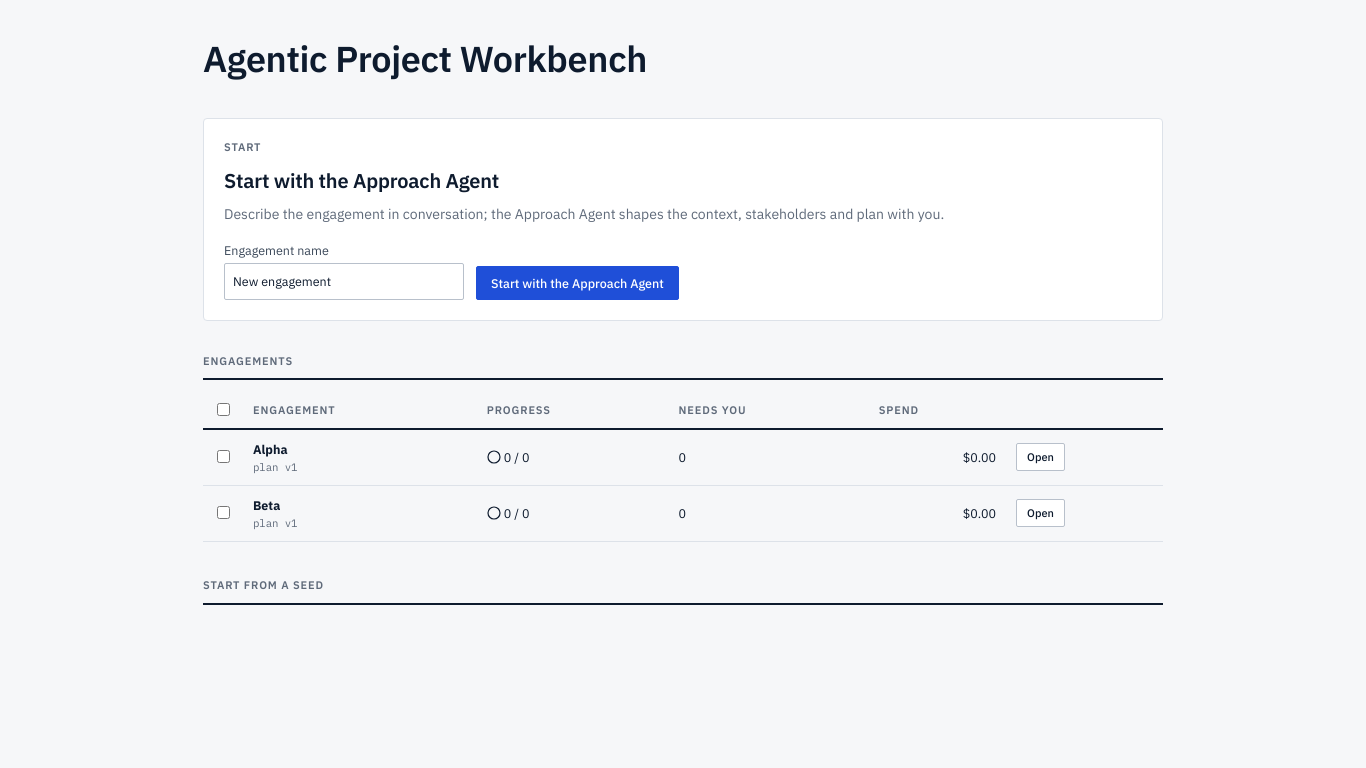
it: HomePage engagement delete › deletes the selected engagements after confirmation and reports a refusal
Expected: the number of rows with test id "engagement-card" is 2, [203, 429, 1163, 485]; [203, 485, 1163, 541]
Click the checkbox with test id "select-all-engagements".
click(224, 409)  # box [217, 402, 230, 416]
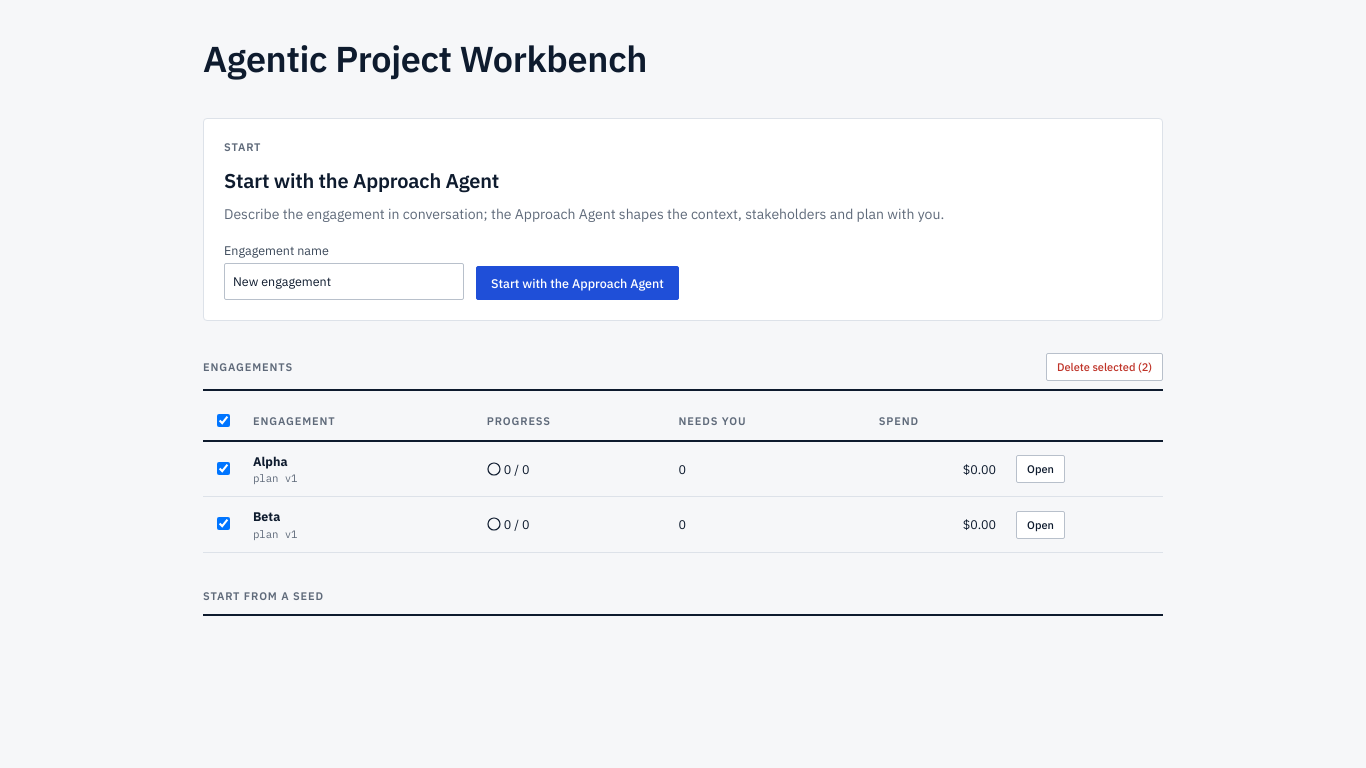
Click the button with test id "delete-engagements-button".
click(1104, 367)  # box [1046, 353, 1163, 381]
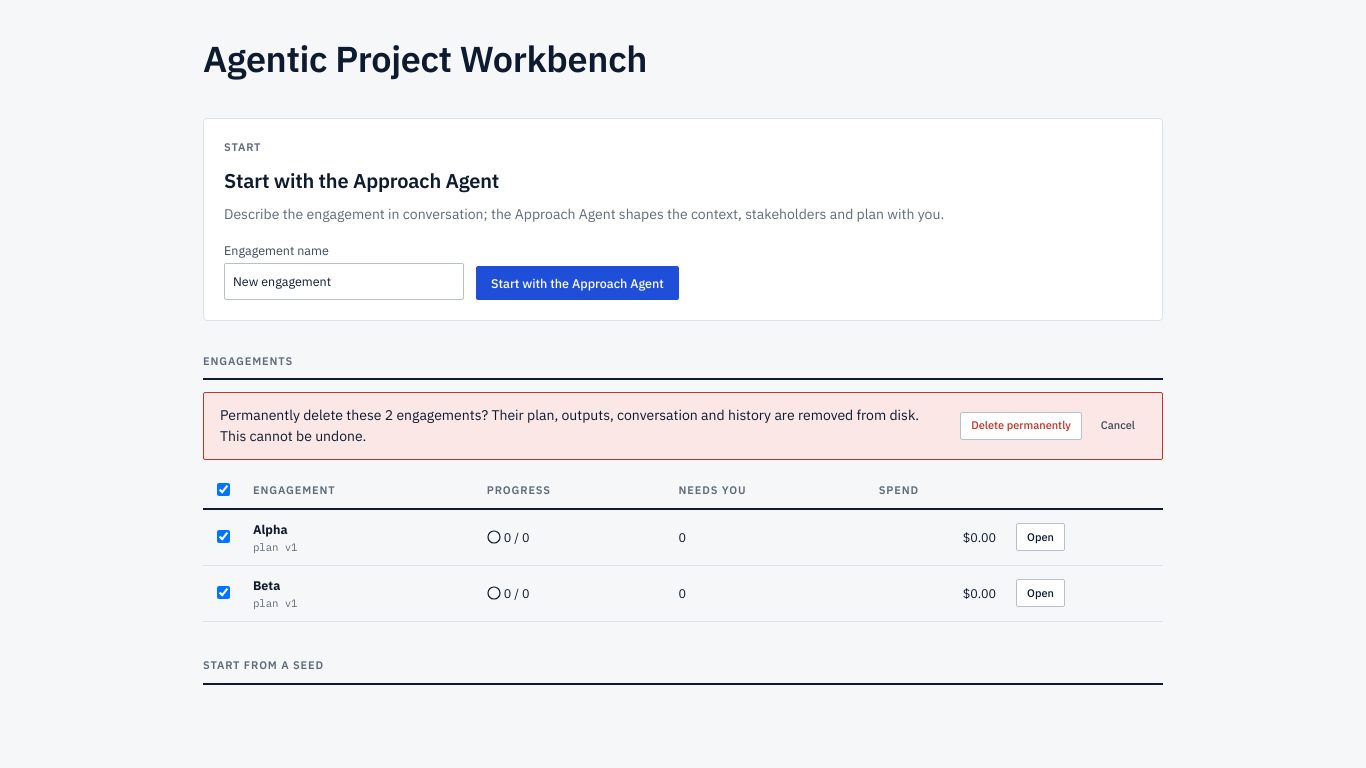
Click the button with test id "delete-engagements-confirm-button".
click(1021, 426)  # box [960, 412, 1082, 440]
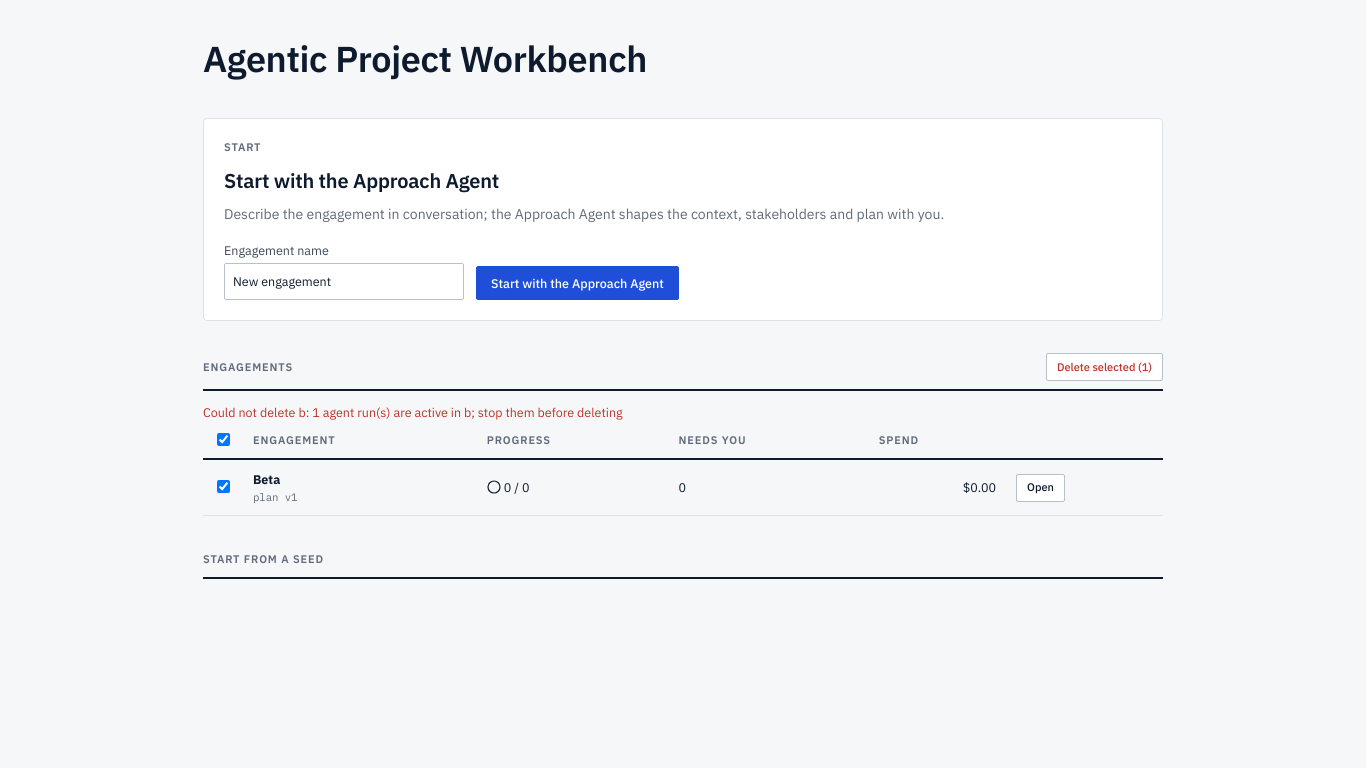
Expected: the number of rows with test id "engagement-card" is 1, [203, 459, 1163, 516]
Expected: the message shows "Could not delete b", [203, 404, 623, 420]
Expected: the button with test id "delete-engagements-button" shows "(1)", [1046, 353, 1163, 381]
